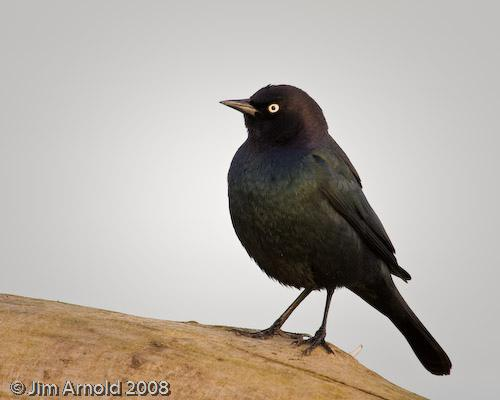009.Brewer_Blackbird: (218, 82, 452, 377)
